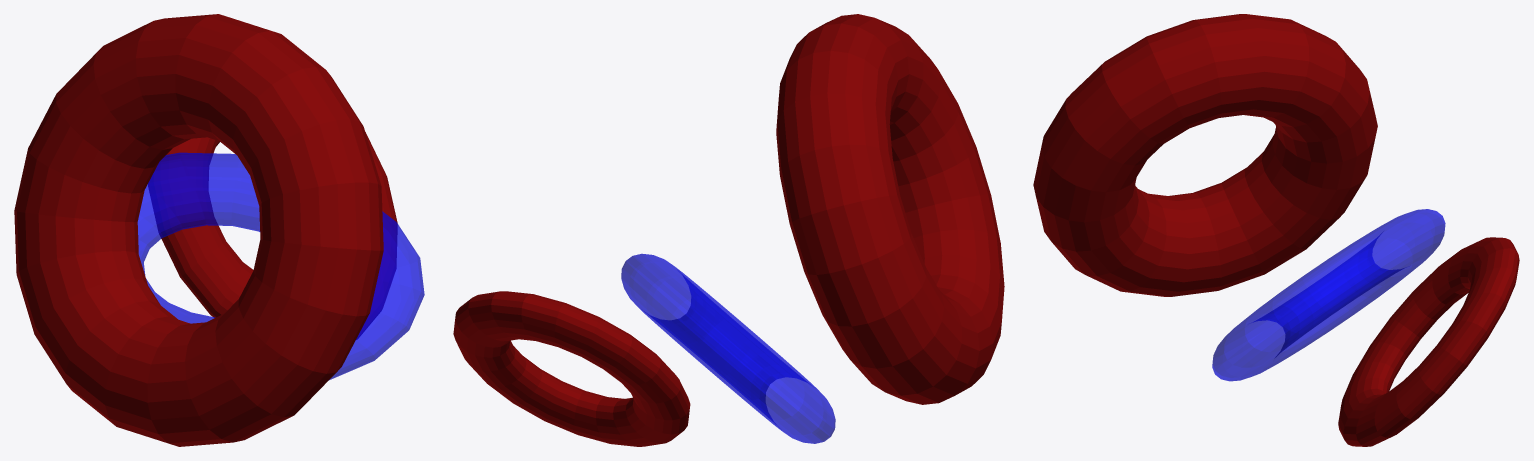
Rendered from effect_lambert_transparent_default.dae.
3 views of the same model, side by side, from view 1: azimuth 30°, elevation 25°; view 2: azimuth 150°, elevation 25°; view 3: azimuth 270°, elevation 25° (orthographic). The views are drawn at different scales.
Parts seen in each view (by area): view 1: pTorus3, pTorus1, pTorus2; view 2: pTorus3, pTorus2, pTorus1; view 3: pTorus3, pTorus2, pTorus1.
Boxes of the visible parts, bbox=[...] form: pTorus3: bbox=[14, 14, 383, 446]; pTorus1: bbox=[137, 152, 424, 380]; pTorus2: bbox=[148, 132, 397, 339]; pTorus3: bbox=[776, 14, 1004, 404]; pTorus2: bbox=[453, 291, 690, 446]; pTorus1: bbox=[621, 253, 835, 443]; pTorus3: bbox=[1033, 14, 1377, 296]; pTorus2: bbox=[1338, 237, 1519, 446]; pTorus1: bbox=[1212, 209, 1445, 381].
Size of the model in its own units: 308 by 283 by 357.
